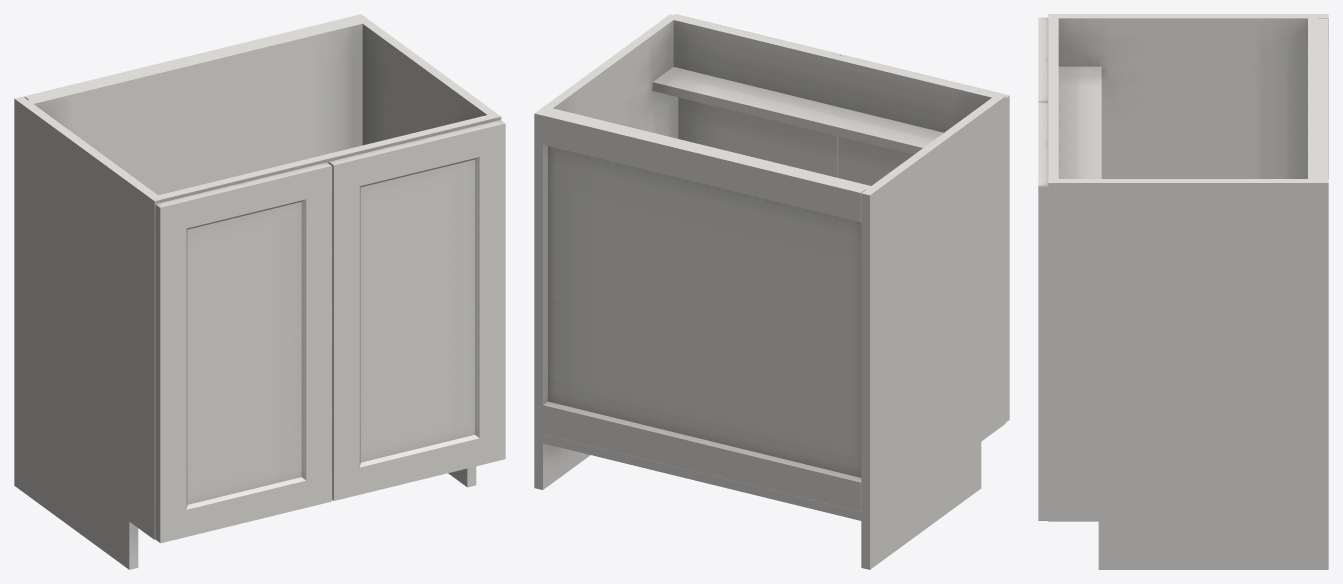
Rendered from 2-door-vanity-sink-base-doors-on.glb.
The picture shows the model from 3 angles, left to right: view 1: azimuth 30°, elevation 25°; view 2: azimuth 150°, elevation 25°; view 3: azimuth 270°, elevation 25°; orthographic projection. The views are drawn at different scales.
Parts seen in each view (by area): view 1: part_1, part_0; view 2: part_0, part_1; view 3: part_0, part_1.
Part boxes in pixels (box(x1,y1,x2,y2)): part_1: box(155, 120, 505, 543); part_0: box(14, 14, 501, 569); part_0: box(534, 14, 1005, 569); part_1: box(674, 14, 1009, 422); part_0: box(1048, 14, 1328, 569); part_1: box(1038, 17, 1048, 520).
Bounding box in the file's own units: 0.762 × 0.8128 × 0.5525.
Materials: 2 (2 with a texture image).
